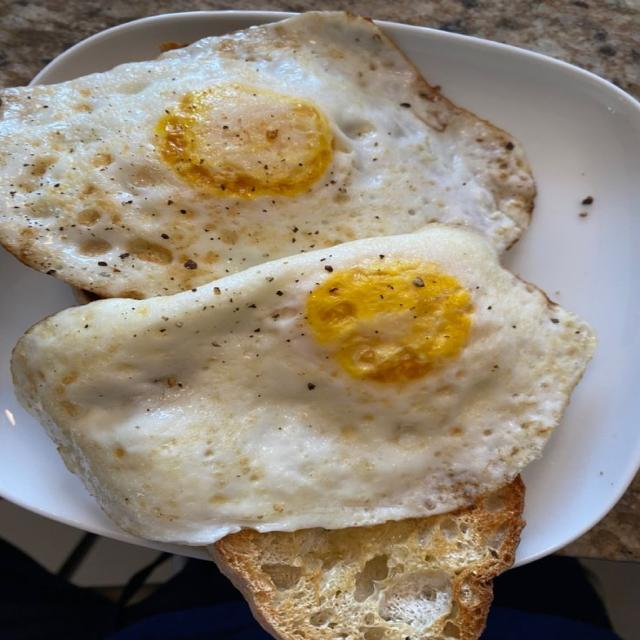fryed egg: (13, 224, 595, 544), (0, 13, 533, 298)
